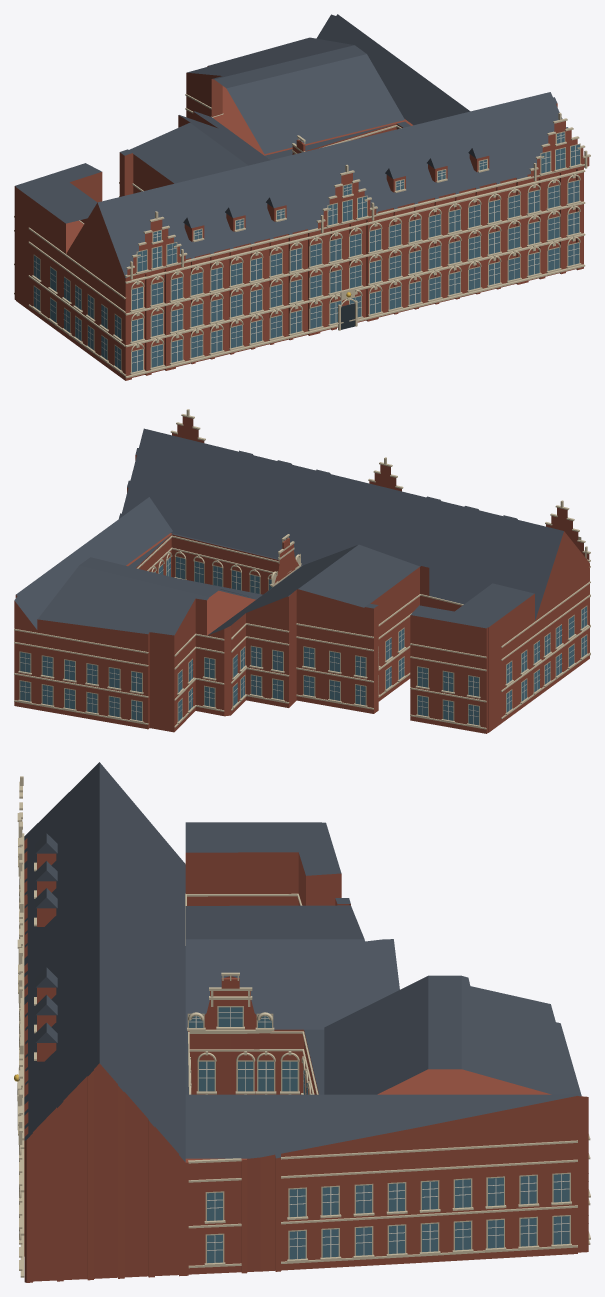
File: oost-indisch-huis.glb
3 renders of one model, top to bottom at view 1: azimuth 30°, elevation 25°; view 2: azimuth 150°, elevation 25°; view 3: azimuth 270°, elevation 25°, orthographic. The views are drawn at different scales.
Visible parts, largest first — view 1: oost-indisch-huis; view 2: oost-indisch-huis; view 3: oost-indisch-huis.
Boxes of the visible parts, box(x1,y1,x2,y2) form: oost-indisch-huis: box(14, 14, 590, 380); oost-indisch-huis: box(14, 409, 590, 733); oost-indisch-huis: box(14, 762, 590, 1282).
Size of the model in its own units: 66.05 by 21.95 by 51.97.
